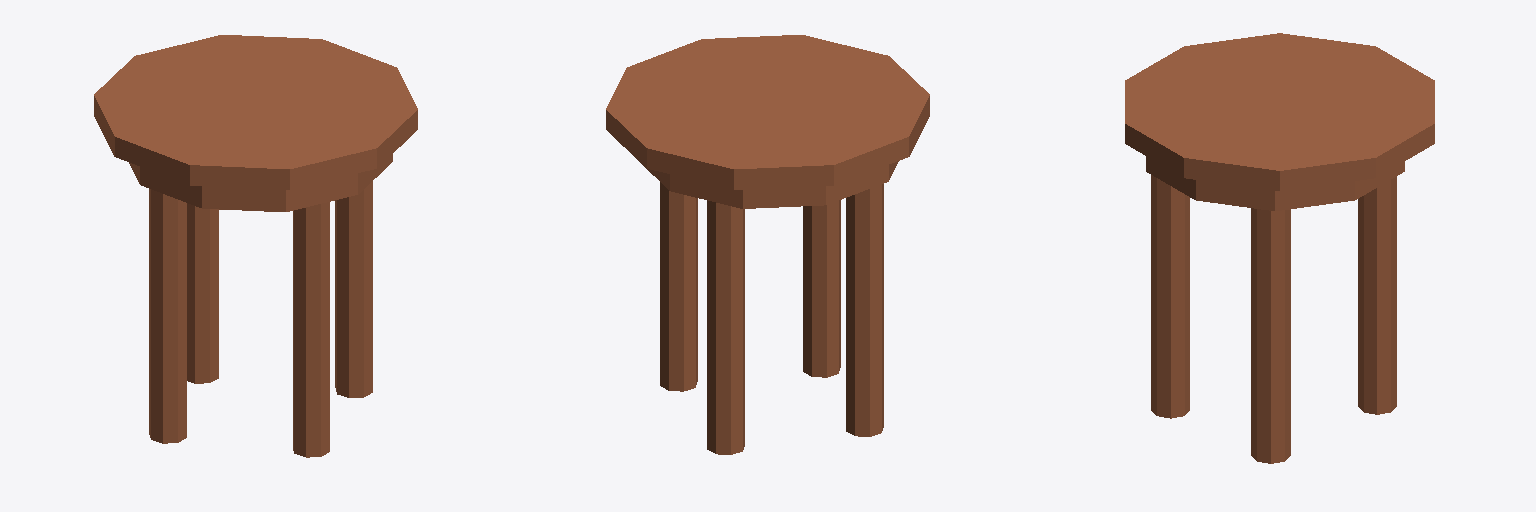
Rendered from SideTable.obj.
3 renders of one model, left to right at view 1: azimuth 30°, elevation 25°; view 2: azimuth 150°, elevation 25°; view 3: azimuth 270°, elevation 25°, orthographic.
Parts seen in each view (by area): view 1: SideTable; view 2: SideTable; view 3: SideTable.
Part boxes in pixels (bbox=[...]): SideTable: bbox=[94, 35, 417, 457]; SideTable: bbox=[606, 35, 929, 454]; SideTable: bbox=[1125, 33, 1434, 463].
Bounding box in the file's own units: 1 × 1.04 × 0.9511.